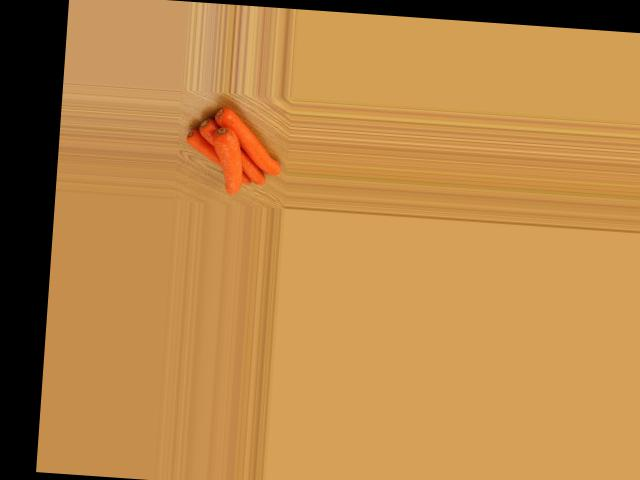carrot: (177, 125, 238, 179)
